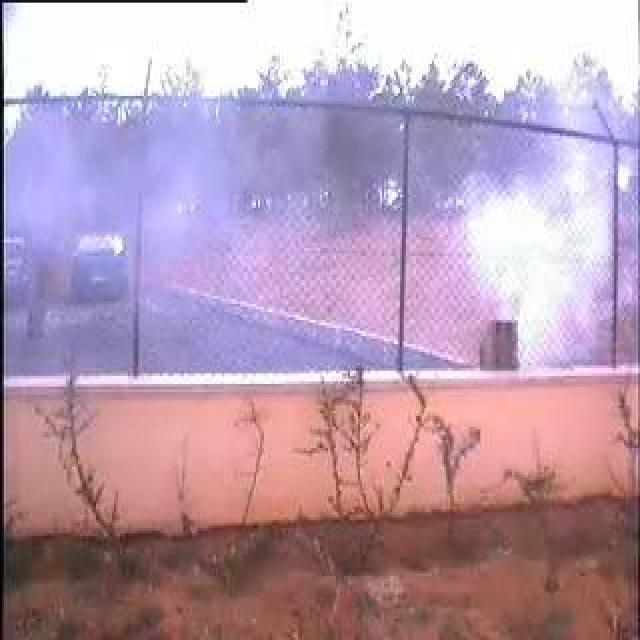Smoke: (27, 120, 609, 363)
